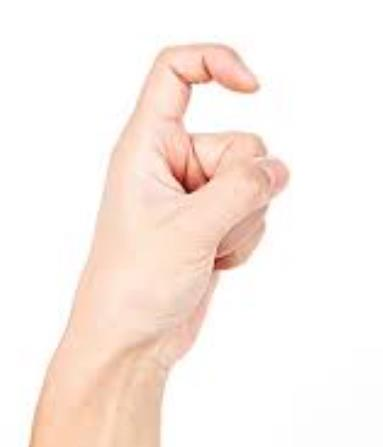anticlockwise: (68, 32, 298, 366)
